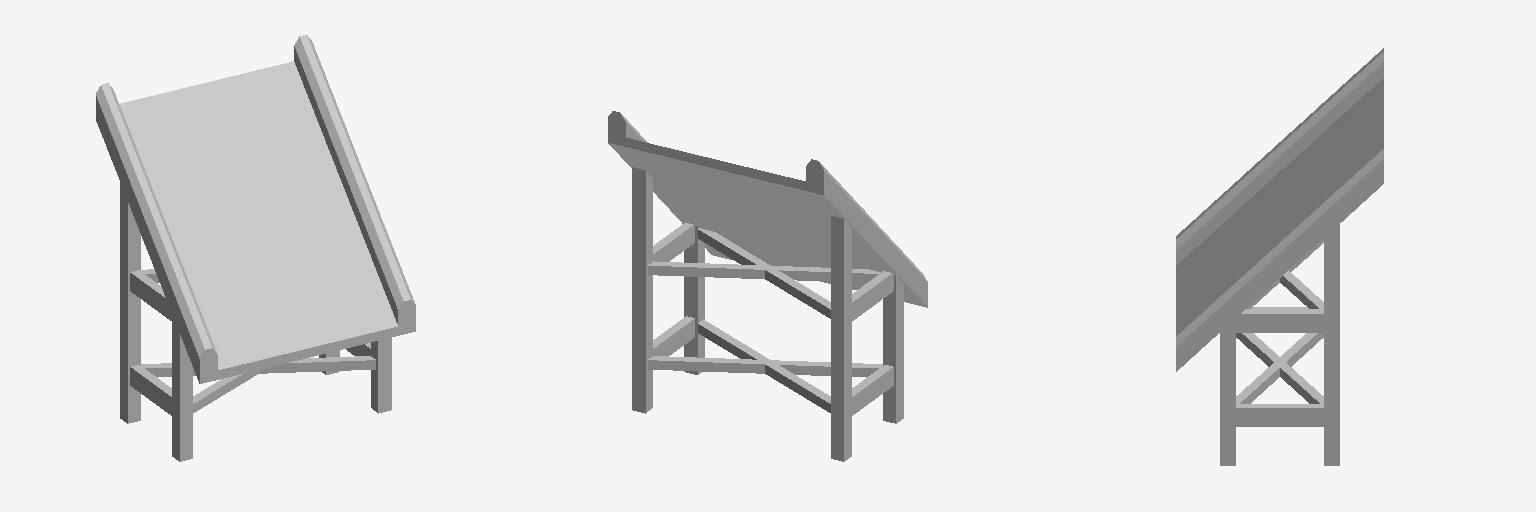
Rendered from jump2.obj.
3 views of the same model, side by side, from view 1: azimuth 30°, elevation 25°; view 2: azimuth 150°, elevation 25°; view 3: azimuth 270°, elevation 25° (orthographic).
Parts seen in each view (by area): view 1: object1, object4, object2, object3; view 2: object4, object1, object2, object3; view 3: object4, object1, object3, object2.
Boxes of the visible parts, x1=… form: object1: x1=119, y1=61, x2=397, y2=379; object4: x1=120, y1=183, x2=391, y2=461; object2: x1=96, y1=83, x2=217, y2=383; object3: x1=294, y1=35, x2=415, y2=335; object4: x1=632, y1=167, x2=903, y2=461; object1: x1=626, y1=138, x2=908, y2=302; object2: x1=806, y1=159, x2=927, y2=307; object3: x1=608, y1=111, x2=729, y2=259; object4: x1=1220, y1=224, x2=1339, y2=465; object1: x1=1176, y1=78, x2=1383, y2=332; object3: x1=1176, y1=145, x2=1383, y2=371; object2: x1=1176, y1=48, x2=1383, y2=265.
Bounding box in the file's own units: 1.2 × 1.68 × 1.